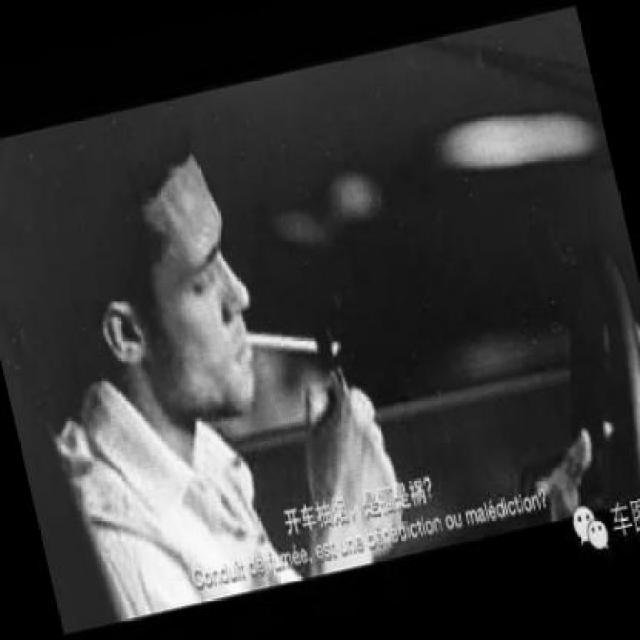cigarette: (242, 312, 324, 374)
